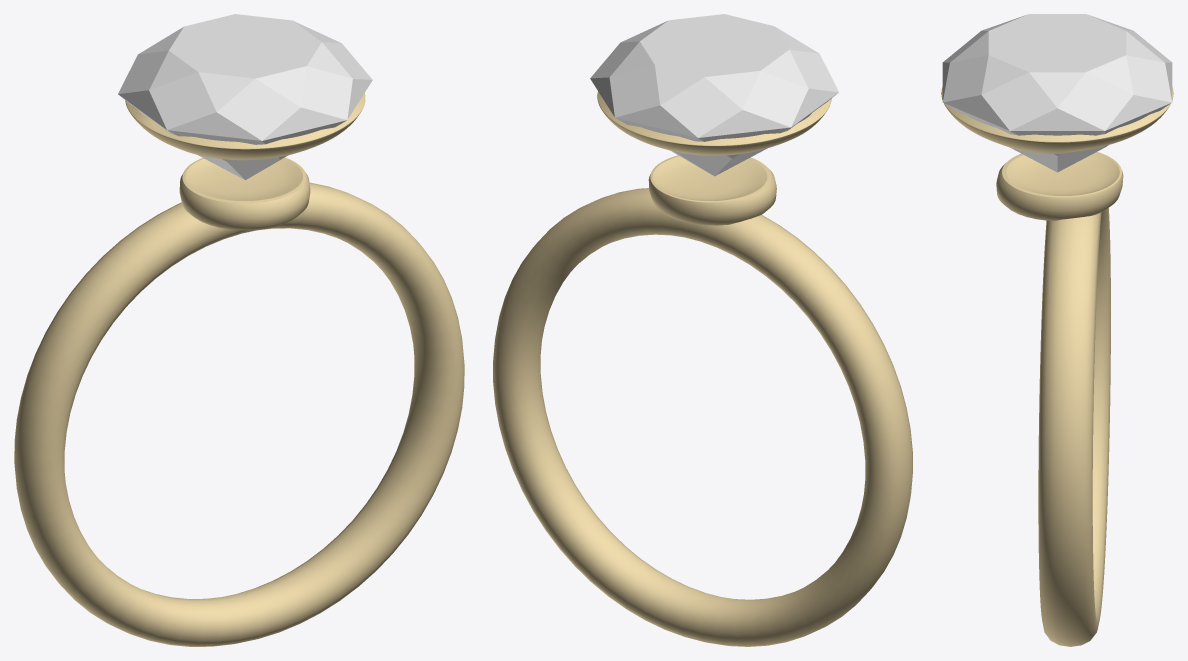
File: ring (1).fbx
3 renders of one model, left to right at view 1: azimuth 30°, elevation 25°; view 2: azimuth 150°, elevation 25°; view 3: azimuth 270°, elevation 25°, orthographic. The views are drawn at different scales.
Parts seen in each view (by area): view 1: Circle.001, Gem, Cylinder, Circle; view 2: Circle.001, Gem, Cylinder, Circle; view 3: Circle.001, Gem, Cylinder, Circle.
Boxes of the visible parts, x1,y1,x2,y2 form: Circle.001: [14, 182, 464, 646]; Gem: [118, 14, 372, 180]; Cylinder: [179, 157, 310, 230]; Circle: [125, 93, 365, 160]; Circle.001: [493, 188, 912, 646]; Gem: [590, 14, 838, 176]; Cylinder: [648, 155, 776, 225]; Circle: [597, 91, 831, 155]; Circle.001: [1038, 208, 1110, 646]; Gem: [942, 14, 1172, 172]; Cylinder: [996, 152, 1123, 220]; Circle: [941, 87, 1173, 153].
Size of the model in its own units: 193 by 257 by 93.28.
